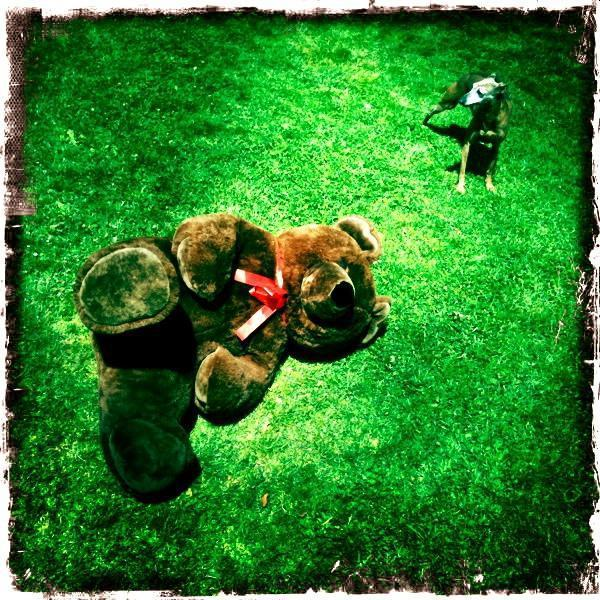dog: (420, 72, 513, 195)
teddy bear: (74, 236, 194, 494), (153, 214, 288, 426), (274, 214, 391, 356)
